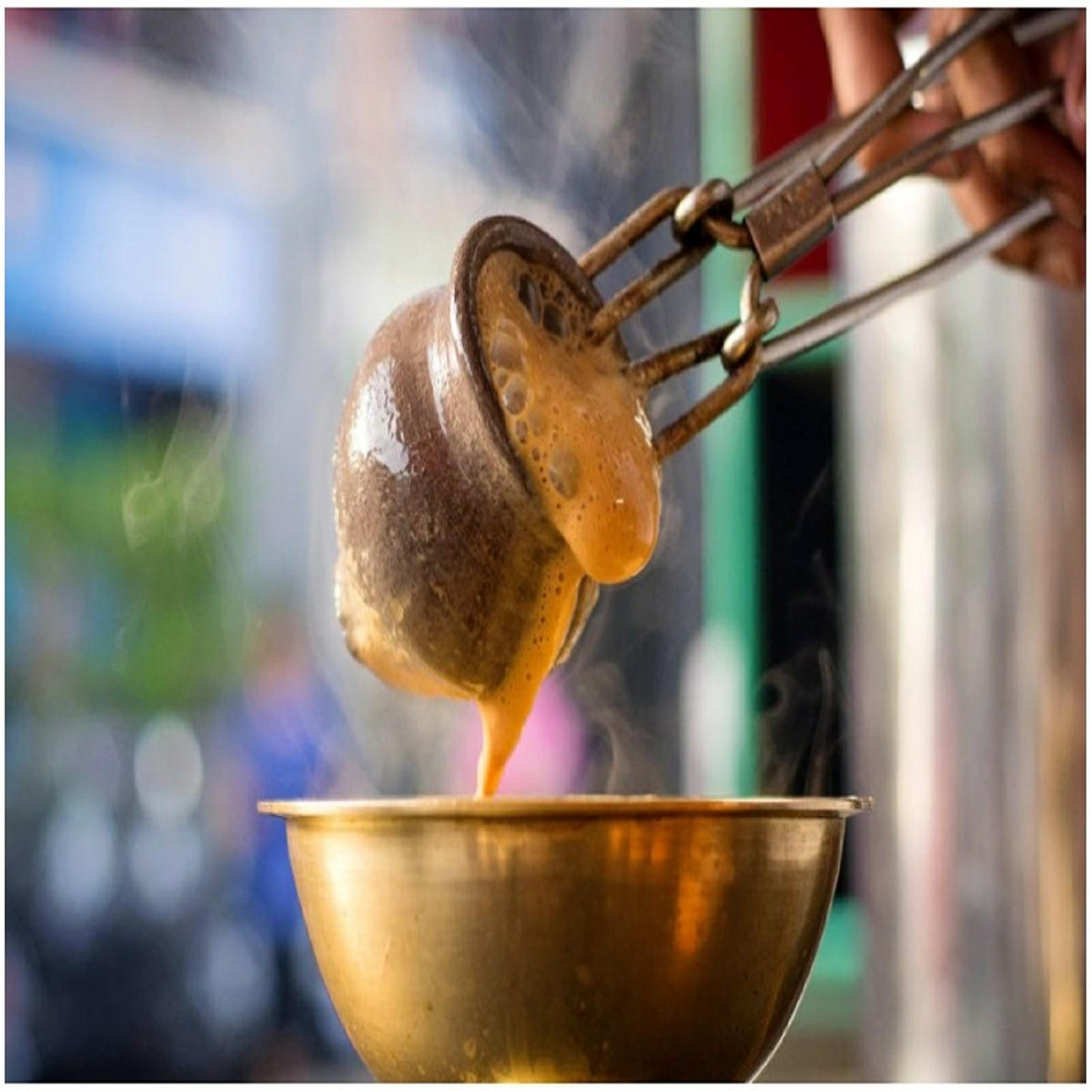Chai: (471, 243, 662, 809)
